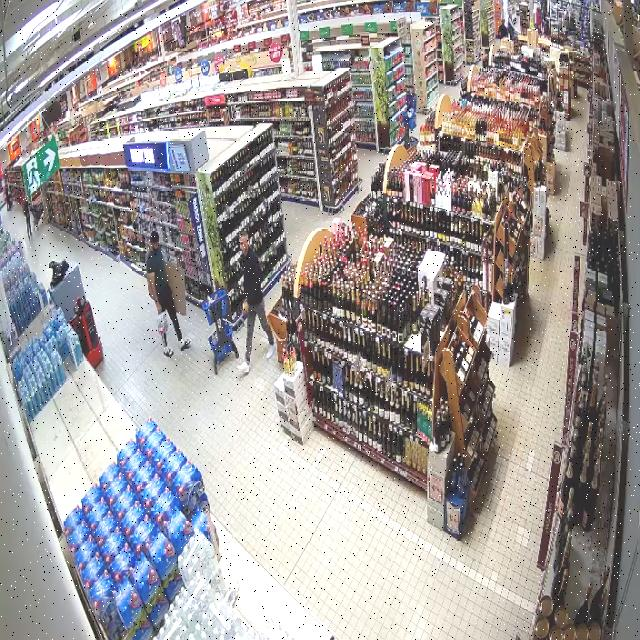article: (157, 313, 167, 336)
hands: (242, 302, 249, 315), (156, 300, 162, 312)
person: (237, 230, 275, 372), (146, 230, 190, 348)
